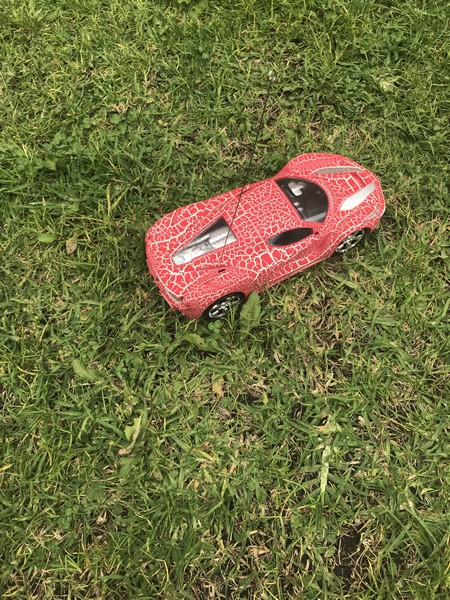RC: (143, 148, 389, 322)
